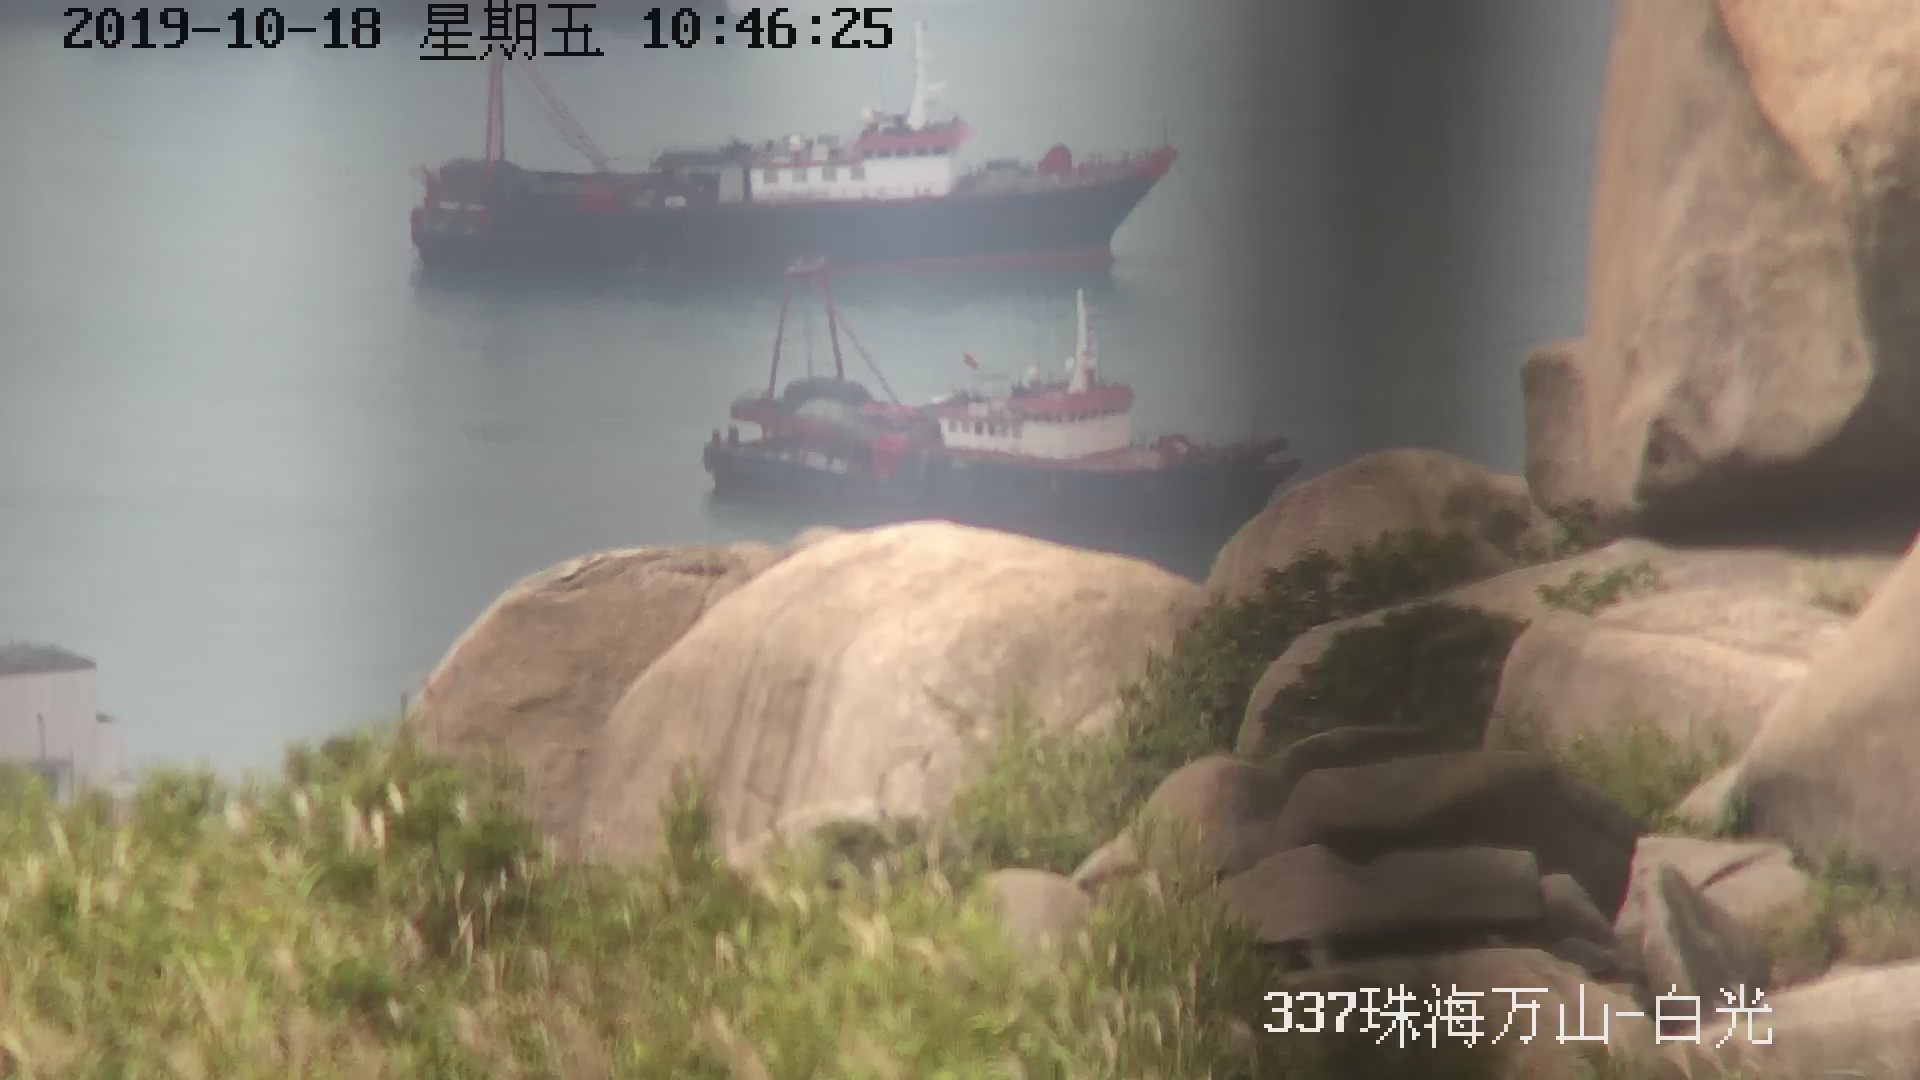ship: (405, 11, 1172, 255), (687, 216, 1269, 506)
